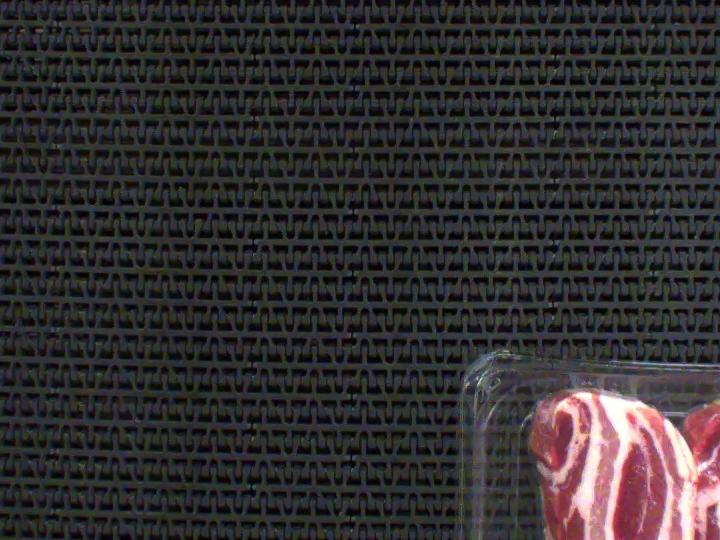packaging-error: (554, 347, 660, 415), (692, 372, 720, 425)
